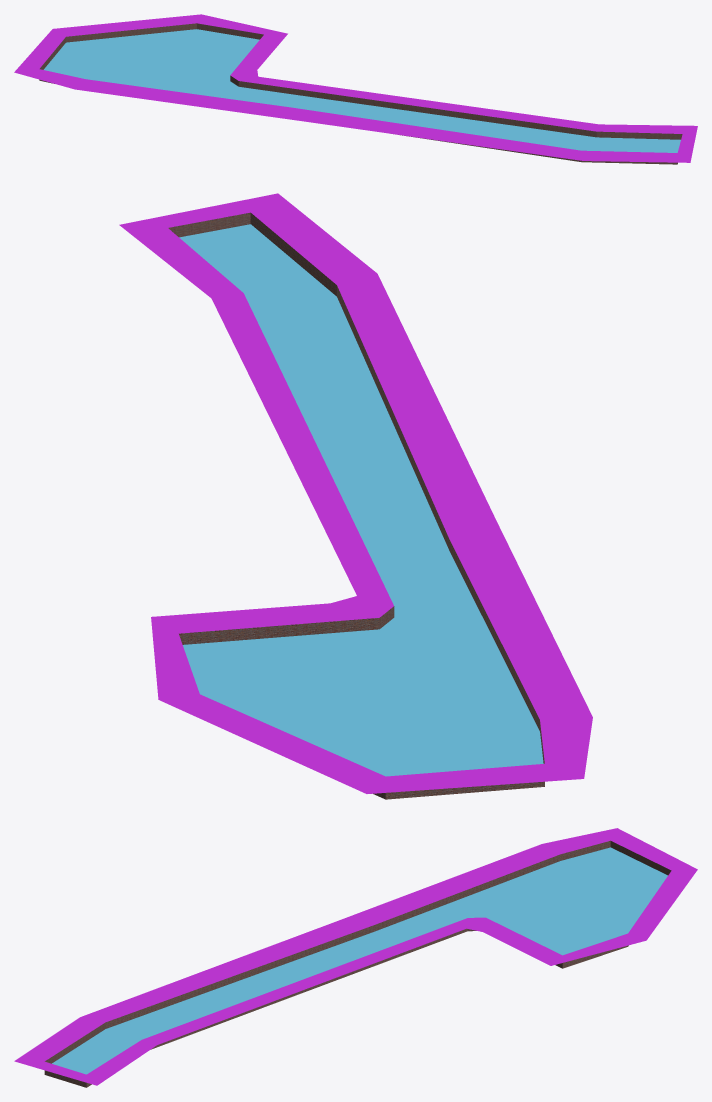
The model's file is laghetto-stefano.glb.
3 views of the same model, one above another, from view 1: azimuth 30°, elevation 25°; view 2: azimuth 150°, elevation 25°; view 3: azimuth 270°, elevation 25° (orthographic). The views are drawn at different scales.
Visible parts, largest first — view 1: Acqua, Maschera_Holdout, muro; view 2: Acqua, Maschera_Holdout, muro; view 3: Acqua, Maschera_Holdout, muro.
Part boxes in pixels (x1,y1,x2,y2): Acqua: (43,29,680,152); Maschera_Holdout: (14,14,697,162); muro: (39,23,682,164); Acqua: (179,224,543,776); Maschera_Holdout: (119,193,592,793); muro: (168,212,544,799); Acqua: (52,847,667,1074); Maschera_Holdout: (14,828,697,1085); muro: (44,840,671,1087).
Size of the model in its own units: 71.35 by 1.72 by 80.01.
3 materials, 1 textured.
